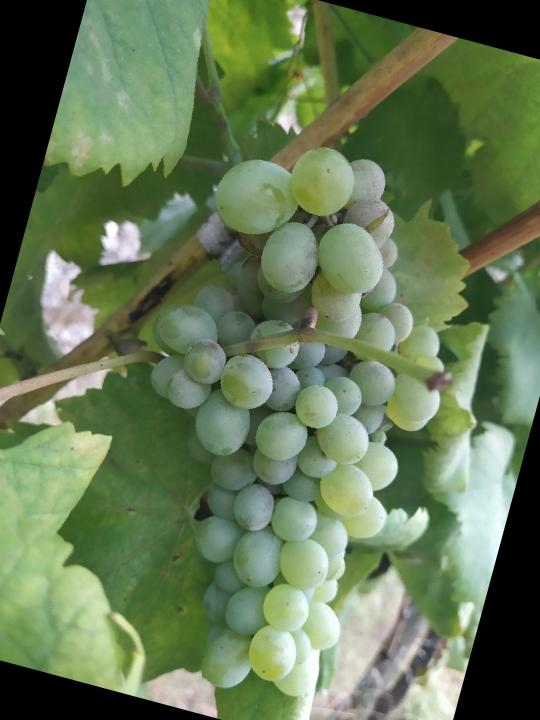grape: (71, 114, 501, 720)
